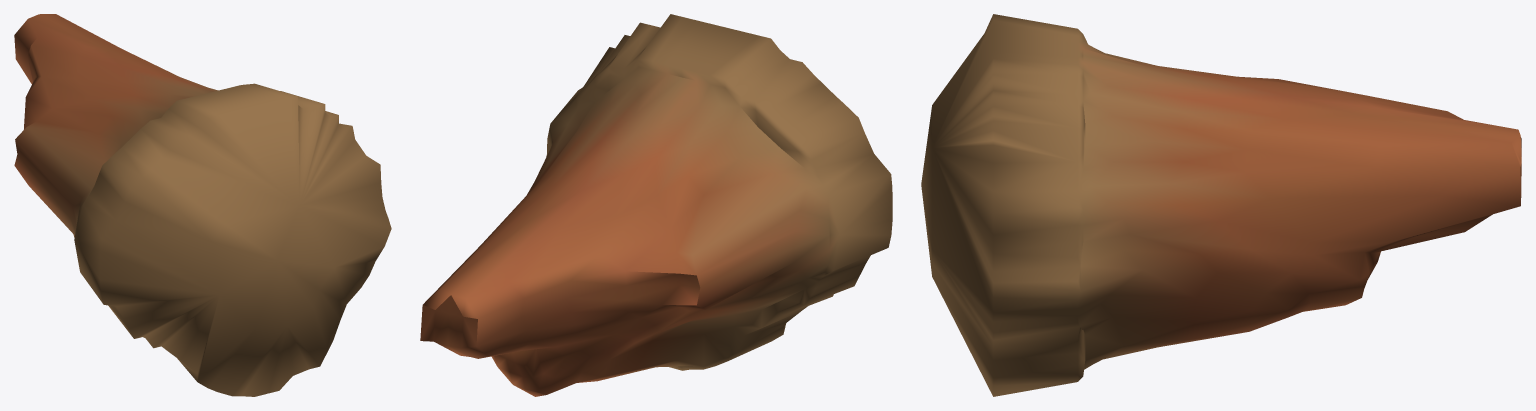
The model's file is RedStoneMountain.003.glb.
3 renders of one model, left to right at view 1: azimuth 30°, elevation 25°; view 2: azimuth 150°, elevation 25°; view 3: azimuth 270°, elevation 25°, orthographic. The views are drawn at different scales.
Visible parts, largest first — view 1: RedStoneMountain.003; view 2: RedStoneMountain.003; view 3: RedStoneMountain.003.
Part boxes in pixels (box(x1,y1,x2,y2)): RedStoneMountain.003: box(14, 14, 391, 396); RedStoneMountain.003: box(420, 14, 892, 396); RedStoneMountain.003: box(921, 14, 1521, 396).
Bounding box in the file's own units: 2499 × 2375 × 3844.
